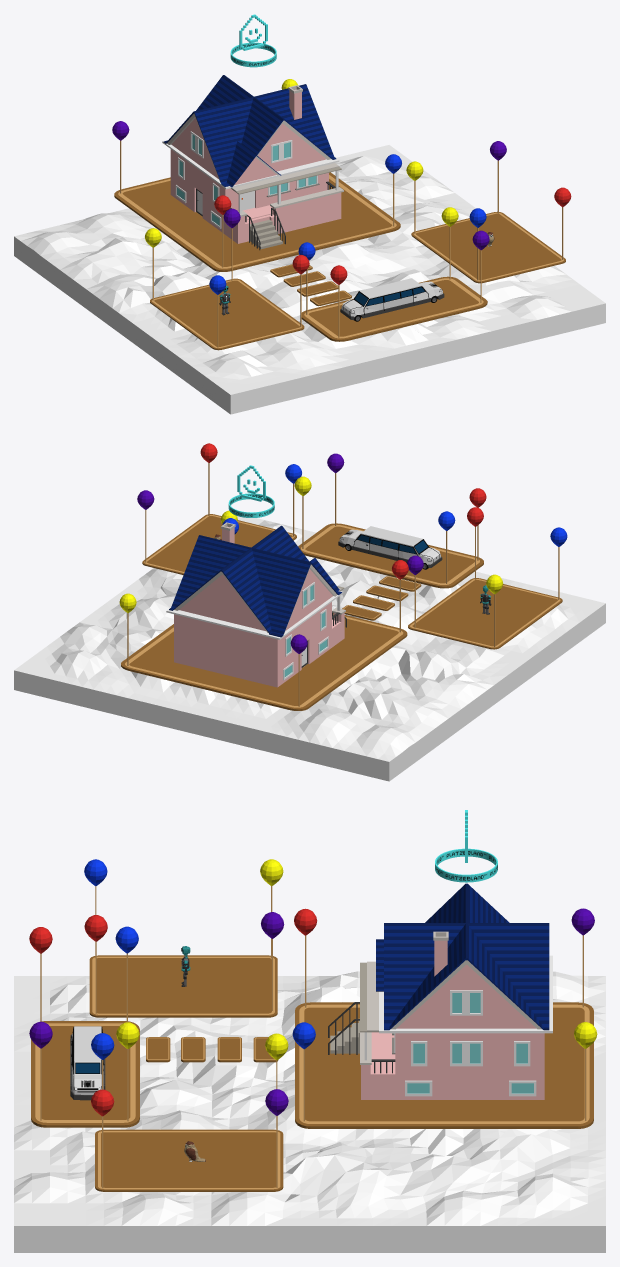
The picture shows the model from 3 angles, top to bottom: view 1: azimuth 30°, elevation 25°; view 2: azimuth 150°, elevation 25°; view 3: azimuth 270°, elevation 25°; orthographic projection. The views are drawn at different scales.
Parts seen in each view (by area): view 1: Cube.013, Cube.313, VEHICLES_LIMOUSINE, TYPE_PREMIUM; view 2: Cube.013, Cube.313, VEHICLES_LIMOUSINE, TYPE_PREMIUM; view 3: Cube.013, Cube.313, VEHICLES_LIMOUSINE, TYPE_PREMIUM.
Boxes of the visible parts, x1,y1,x2,y2 form: Cube.013: (14, 79, 605, 414); Cube.313: (162, 75, 343, 250); VEHICLES_LIMOUSINE: (340, 278, 444, 321); TYPE_PREMIUM: (230, 14, 276, 67); Cube.013: (14, 443, 605, 781); Cube.313: (166, 522, 346, 687); VEHICLES_LIMOUSINE: (338, 526, 442, 569); TYPE_PREMIUM: (228, 465, 274, 517); Cube.013: (14, 859, 605, 1252); Cube.313: (328, 883, 552, 1099); VEHICLES_LIMOUSINE: (70, 1026, 105, 1100); TYPE_PREMIUM: (435, 810, 497, 882).
Bounding box in the file's own units: 4000 × 2459 × 4000.
Materials: 40 (2 with a texture image).
